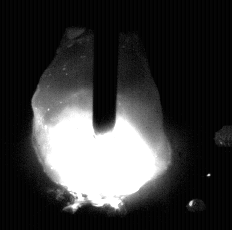arame: (94, 0, 118, 134)
poca: (31, 0, 169, 230)
